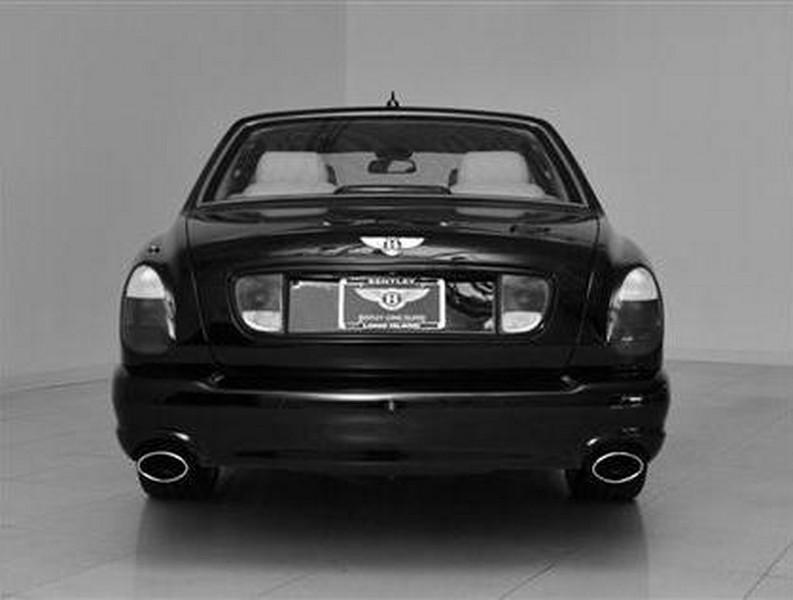car: (112, 94, 673, 513)
